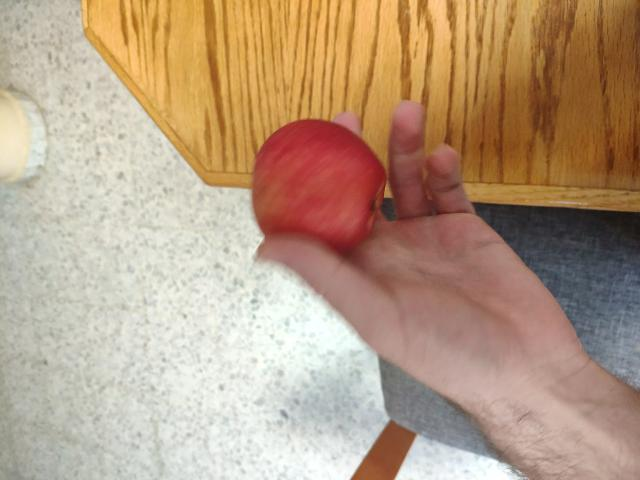apple: (246, 116, 406, 271)
